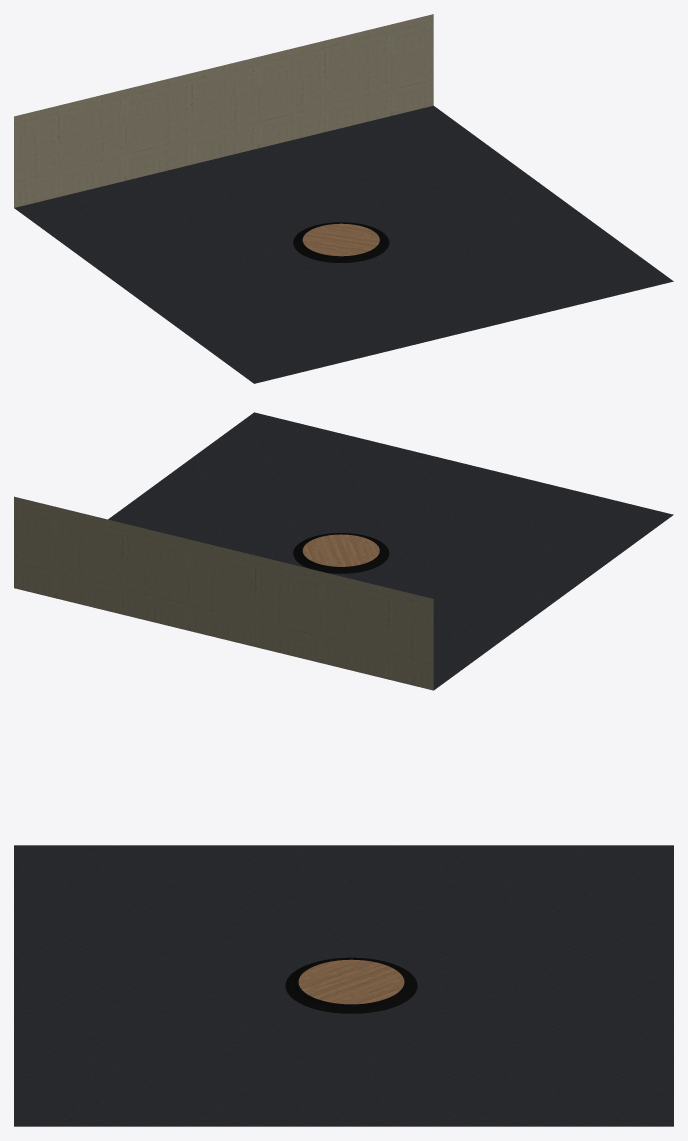
File: Autosalon-transformed.glb
3 views of the same model, one above another, from view 1: azimuth 30°, elevation 25°; view 2: azimuth 150°, elevation 25°; view 3: azimuth 270°, elevation 25° (orthographic). The views are drawn at different scales.
Visible parts, largest first — view 1: Plane, Cylinder; view 2: Plane, Cylinder; view 3: Plane, Cylinder.
Part boxes in pixels (x1=…): Plane: x1=14, y1=14, x2=673, y2=383; Cylinder: x1=293, y1=222, x2=389, y2=262; Plane: x1=14, y1=412, x2=673, y2=690; Cylinder: x1=293, y1=533, x2=389, y2=573; Plane: x1=14, y1=845, x2=673, y2=1126; Cylinder: x1=285, y1=957, x2=417, y2=1013.
Size of the model in its own units: 34.88 by 7.27 by 34.58.
5 materials, 3 textured.
